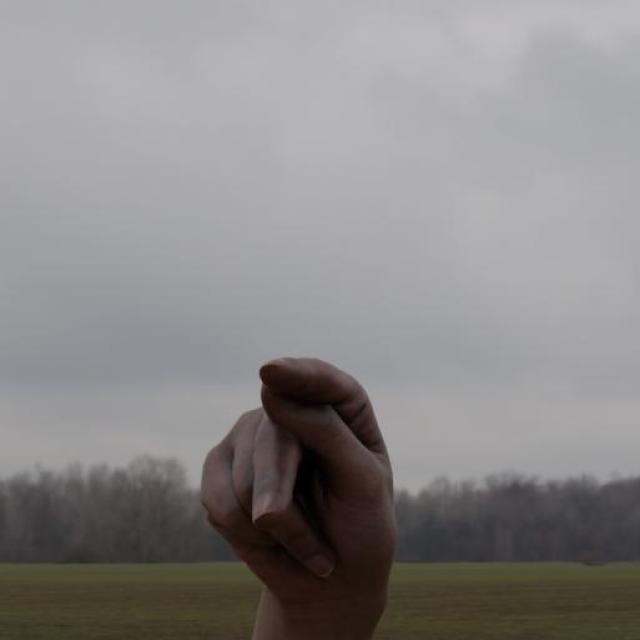P: (196, 351, 403, 604)
